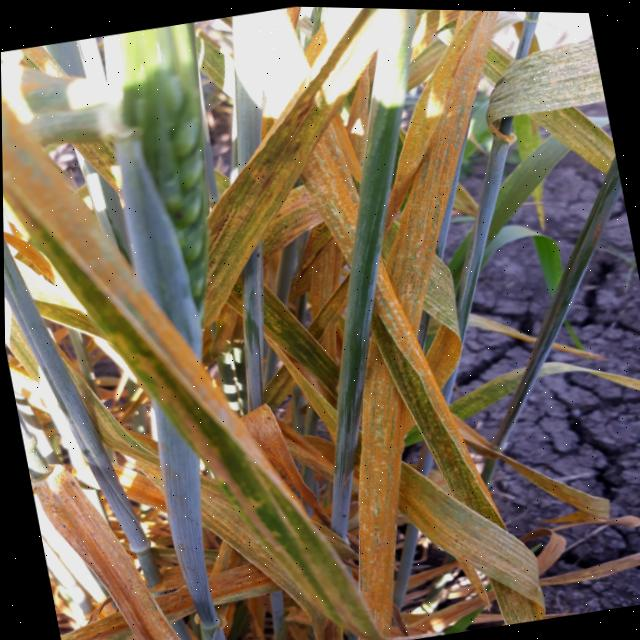yellow_rust: (194, 3, 640, 640), (8, 325, 299, 640), (0, 34, 164, 400), (179, 192, 272, 350)
